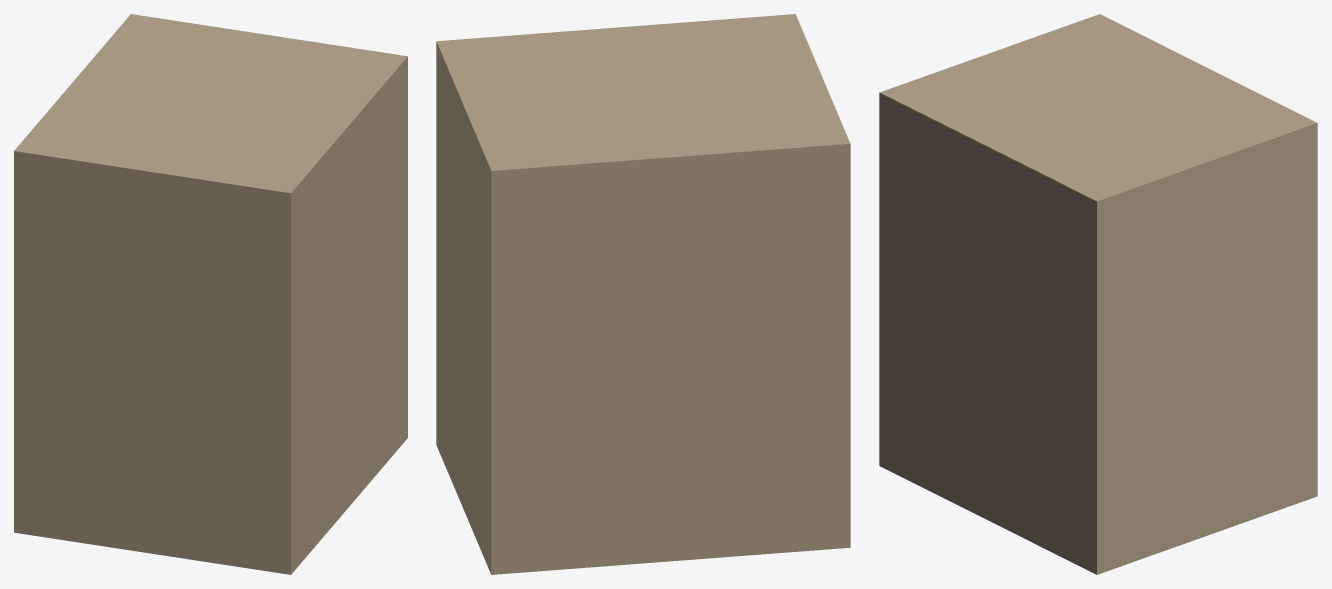
The model's file is bld_101245910.dae.
3 views of the same model, side by side, from view 1: azimuth 30°, elevation 25°; view 2: azimuth 150°, elevation 25°; view 3: azimuth 270°, elevation 25° (orthographic). The views are drawn at different scales.
Parts seen in each view (by area): view 1: bld_101245910; view 2: bld_101245910; view 3: bld_101245910.
Boxes of the visible parts, x1,y1,x2,y2 form: bld_101245910: [14, 14, 407, 574]; bld_101245910: [436, 14, 850, 574]; bld_101245910: [879, 14, 1317, 574].
Bounding box in the file's own units: 8.61 × 8.5 × 8.
